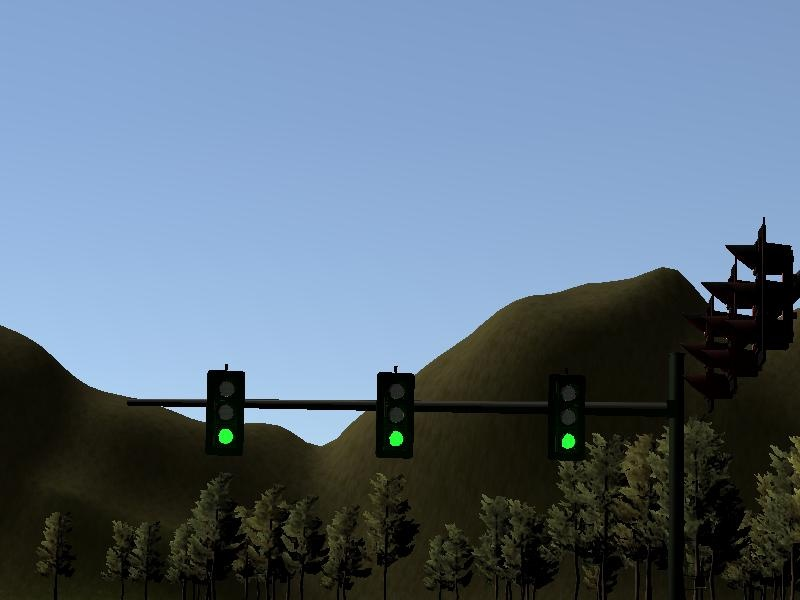GREEN: (204, 370, 244, 454), (375, 373, 415, 457), (547, 376, 587, 460)
